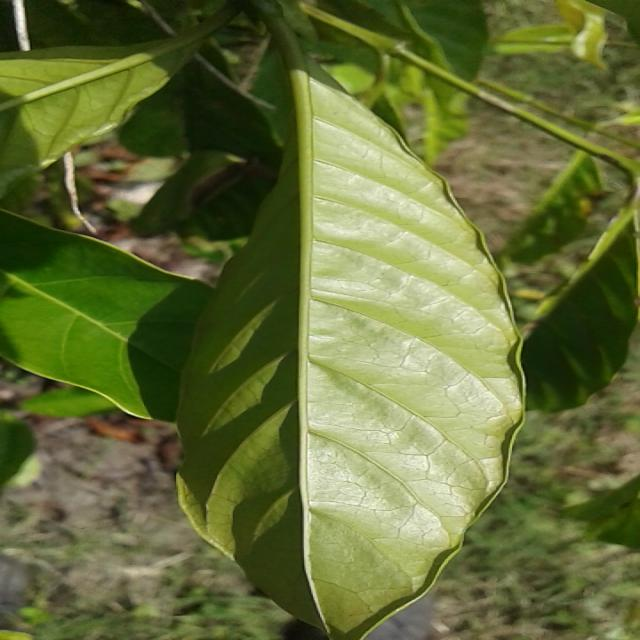Sanas: (179, 71, 525, 627)
